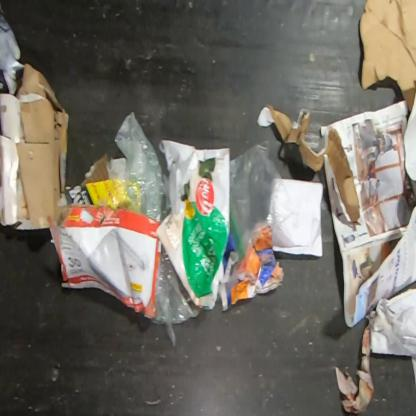cardboard: (47, 204, 162, 319), (257, 105, 361, 226), (0, 63, 70, 231), (358, 0, 415, 118), (65, 153, 111, 205)
soft_plastic: (156, 139, 230, 311), (97, 110, 172, 223), (230, 139, 297, 261), (150, 244, 203, 348)
